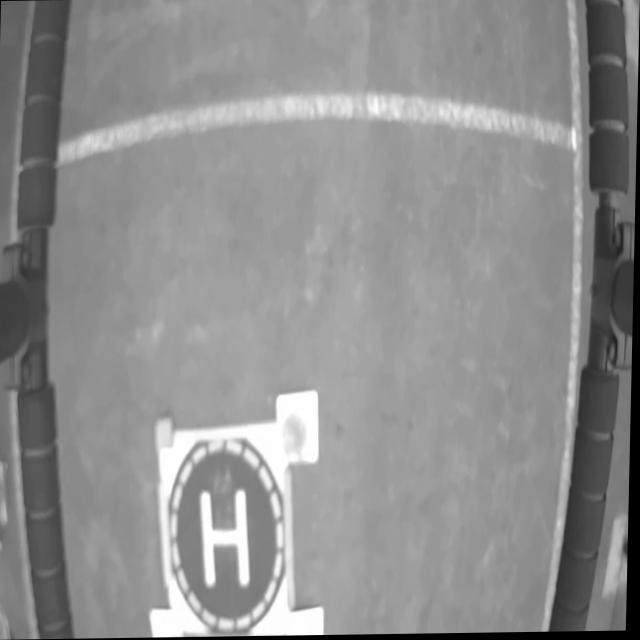Helipad: (199, 483, 253, 589)
